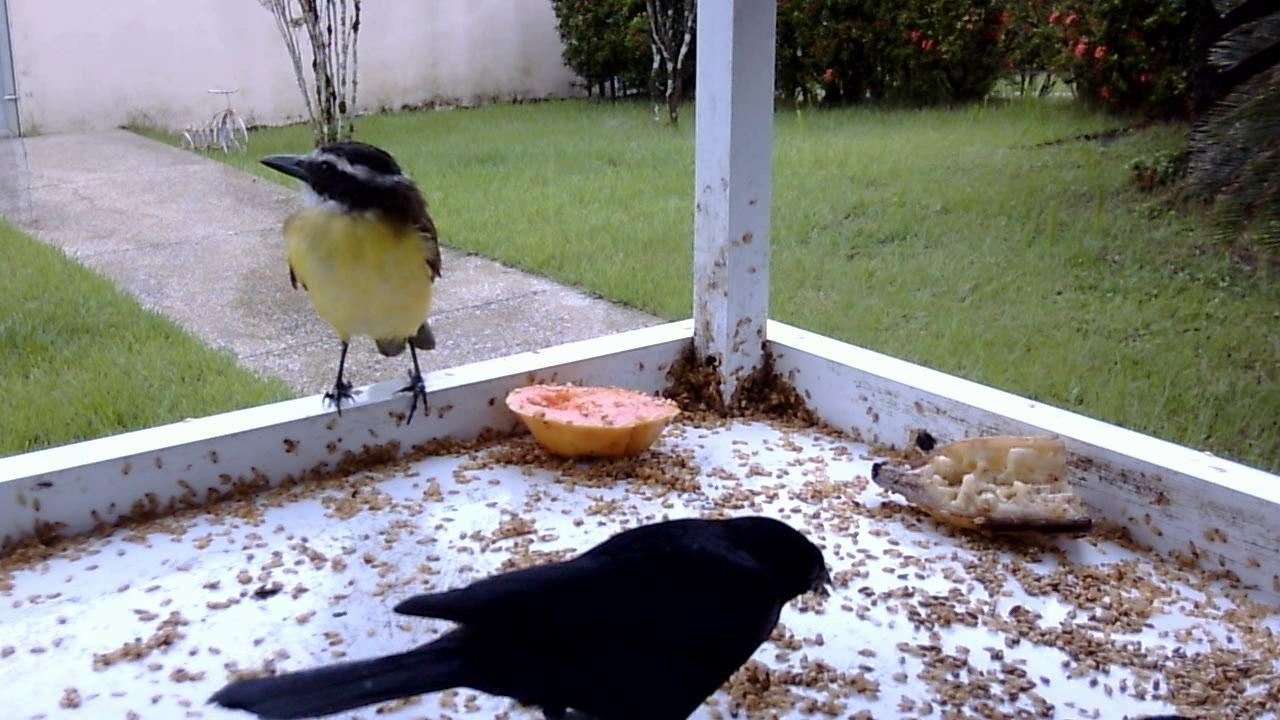bem_te_vi: (249, 130, 453, 439)
chupim: (206, 497, 841, 718)
